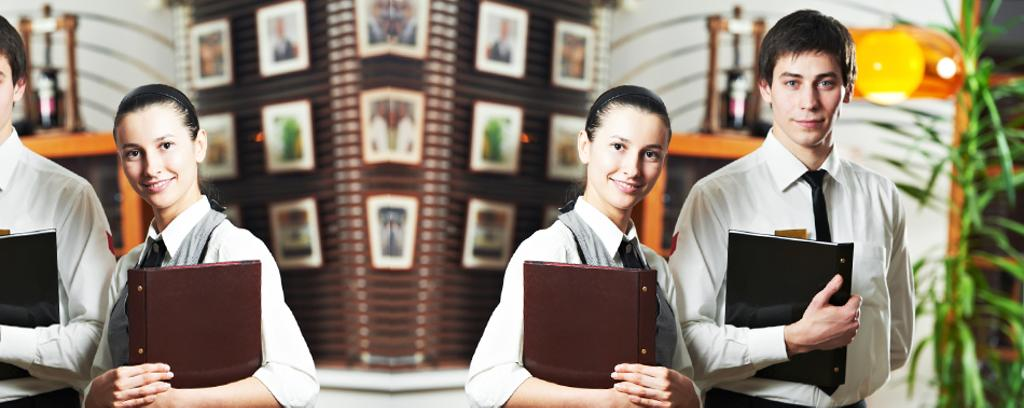face: (592, 98, 668, 210), (772, 38, 848, 144), (120, 112, 194, 206)
